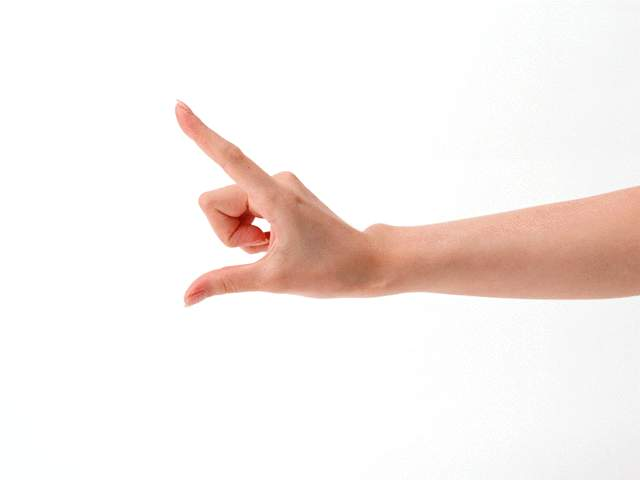no-phone: (150, 81, 400, 346)
